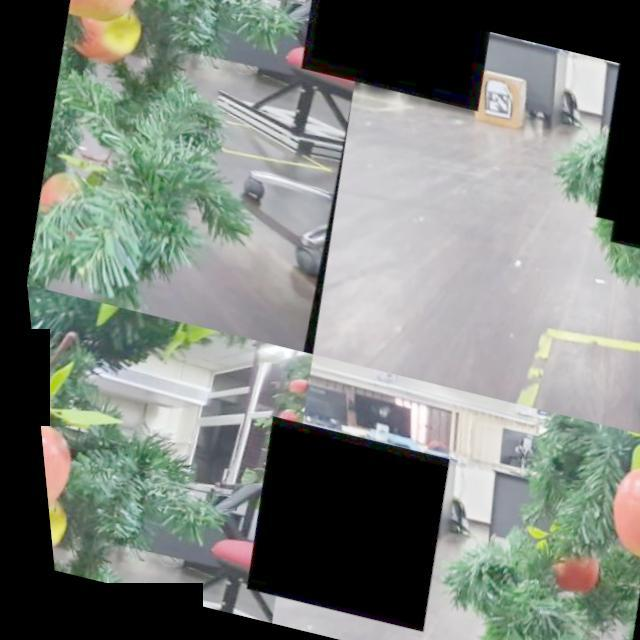Tree: (1, 1, 350, 343), (23, 285, 299, 617), (455, 42, 640, 388), (394, 393, 640, 640)
